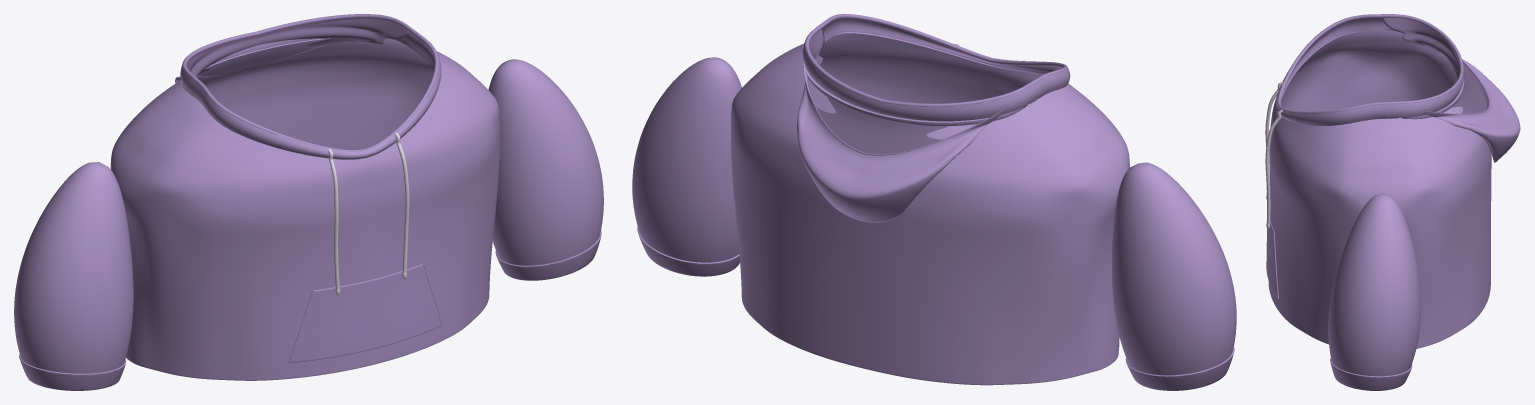
Rendered from Masculine-sweatshirt-top.glb.
3 views of the same model, side by side, from view 1: azimuth 30°, elevation 25°; view 2: azimuth 150°, elevation 25°; view 3: azimuth 270°, elevation 25° (orthographic). The views are drawn at different scales.
Parts seen in each view (by area): view 1: Clothing / tailored203.001, Sleeve / full fabric wrap201 -1.001, Sleeve / full fabric wrap201 1.001, Hoodie / seated pouch202.001, Hoodie / attached opening204.001, Hoodie / rounded resting hood215.001, Hoodie / rolled opening204.001, Sleeve / shaped cuff202 -1.001, Sleeve / shaped cuff202 1.001, Hoodie / front seated cord205 1.001, Hoodie / front seated cord205 -1.001; view 2: Clothing / tailored203.001, Sleeve / full fabric wrap201 -1.001, Sleeve / full fabric wrap201 1.001, Hoodie / rounded resting hood215.001, Hoodie / attached opening204.001, Hoodie / rolled opening204.001, Sleeve / shaped cuff202 -1.001, Sleeve / shaped cuff202 1.001; view 3: Clothing / tailored203.001, Sleeve / full fabric wrap201 1.001, Hoodie / rounded resting hood215.001, Hoodie / attached opening204.001, Hoodie / rolled opening204.001, Sleeve / shaped cuff202 1.001, Hoodie / seated pouch202.001, Hoodie / front seated cord205 1.001, Hoodie / front seated cord205 -1.001.
Part boxes in pixels (<box>): Clothing / tailored203.001: <box>110,38,499,380</box>; Sleeve / full fabric wrap201 -1.001: <box>14,162,133,373</box>; Sleeve / full fabric wrap201 1.001: <box>488,59,603,265</box>; Hoodie / seated pouch202.001: <box>289,264,441,362</box>; Hoodie / attached opening204.001: <box>180,18,441,159</box>; Hoodie / rounded resting hood215.001: <box>175,18,409,83</box>; Hoodie / rolled opening204.001: <box>182,14,438,151</box>; Sleeve / shaped cuff202 -1.001: <box>19,354,126,390</box>; Sleeve / shaped cuff202 1.001: <box>495,230,601,280</box>; Hoodie / front seated cord205 1.001: <box>394,132,409,272</box>; Hoodie / front seated cord205 -1.001: <box>327,148,339,289</box>; Clothing / tailored203.001: <box>731,32,1129,385</box>; Sleeve / full fabric wrap201 -1.001: <box>1112,162,1236,375</box>; Sleeve / full fabric wrap201 1.001: <box>632,57,741,262</box>; Hoodie / rounded resting hood215.001: <box>797,29,1004,222</box>; Hoodie / attached opening204.001: <box>802,18,1070,126</box>; Hoodie / rolled opening204.001: <box>804,14,1067,107</box>; Sleeve / shaped cuff202 -1.001: <box>1125,346,1234,390</box>; Sleeve / shaped cuff202 1.001: <box>637,227,739,276</box>; Clothing / tailored203.001: <box>1268,30,1491,348</box>; Sleeve / full fabric wrap201 1.001: <box>1328,193,1420,376</box>; Hoodie / rounded resting hood215.001: <box>1382,17,1520,162</box>; Hoodie / attached opening204.001: <box>1275,17,1464,125</box>; Hoodie / rolled opening204.001: <box>1277,14,1463,113</box>; Sleeve / shaped cuff202 1.001: <box>1330,358,1412,390</box>; Hoodie / seated pouch202.001: <box>1266,221,1278,298</box>; Hoodie / front seated cord205 1.001: <box>1265,109,1282,224</box>; Hoodie / front seated cord205 -1.001: <box>1265,81,1282,195</box>.
Size of the model in its own units: 1.09 by 0.4801 by 0.4922.
